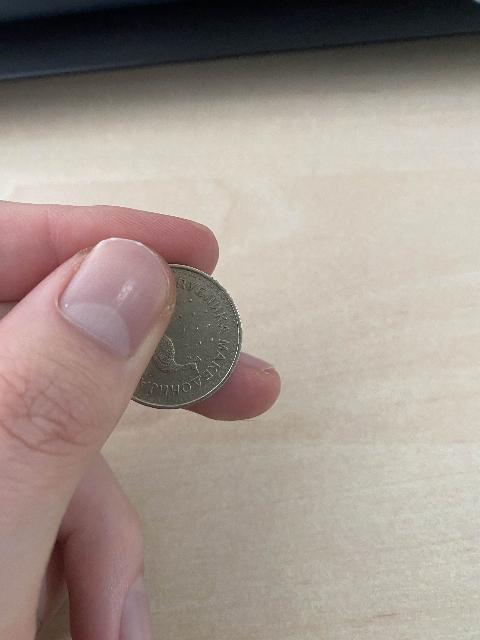10_coin: (133, 265, 241, 408)
